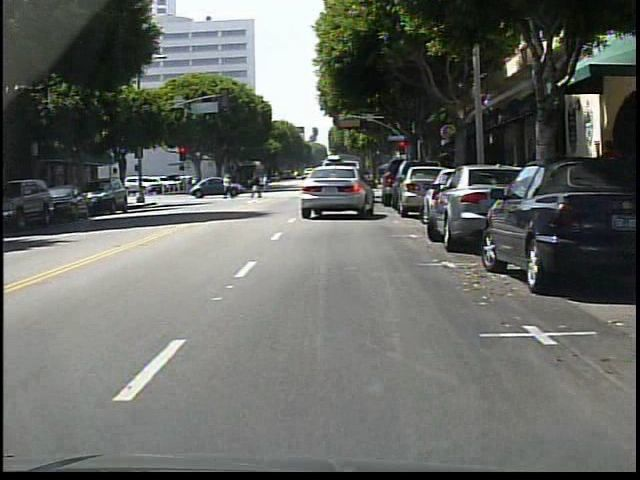person: (598, 141, 630, 214), (222, 173, 236, 198), (251, 171, 263, 199), (266, 175, 267, 192)
